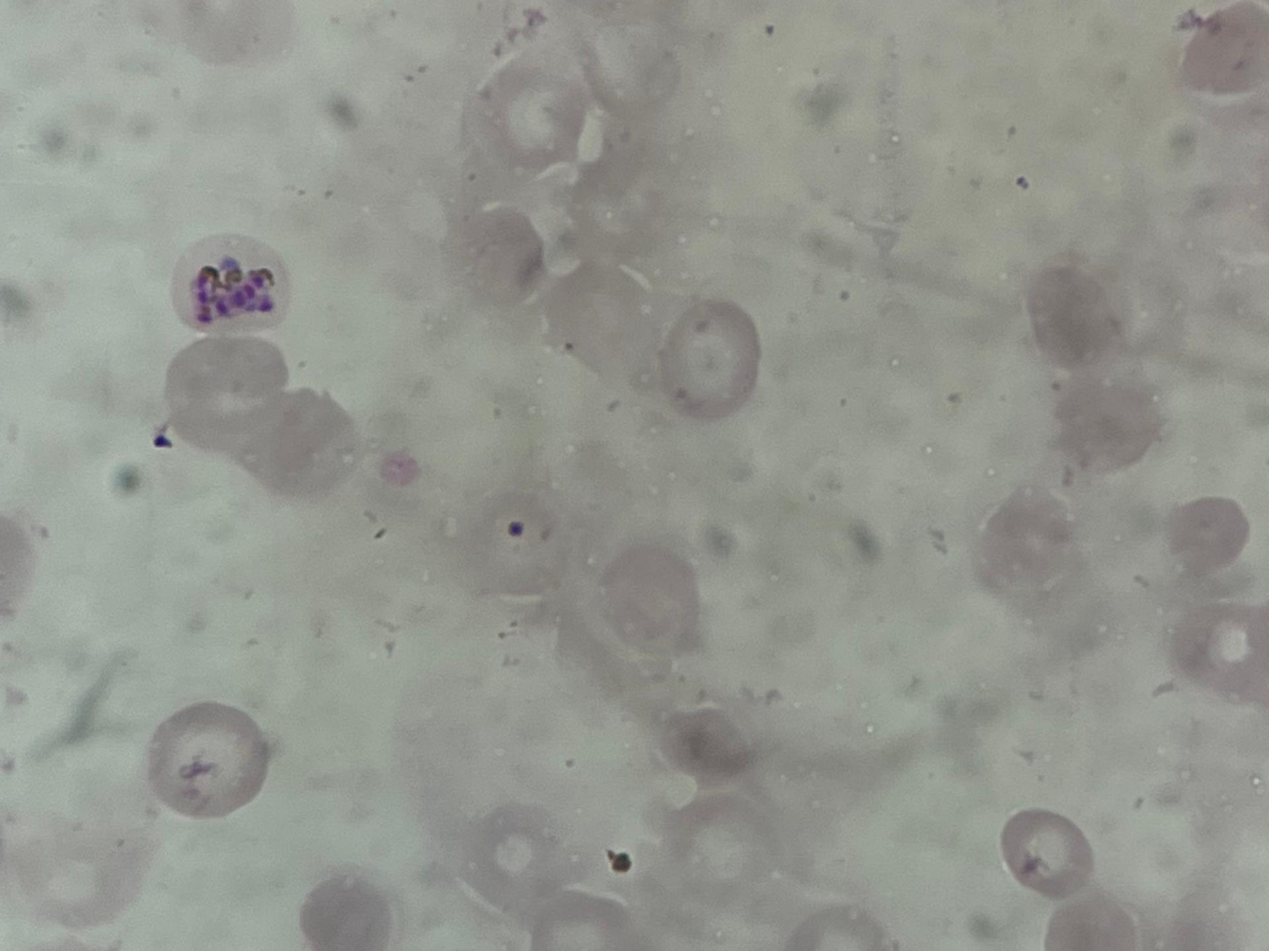Infected: (167, 228, 292, 346)
Uninfected: (141, 697, 264, 821), (161, 340, 285, 448), (234, 393, 354, 496), (663, 296, 759, 420), (1172, 591, 1265, 705), (996, 807, 1093, 900)
